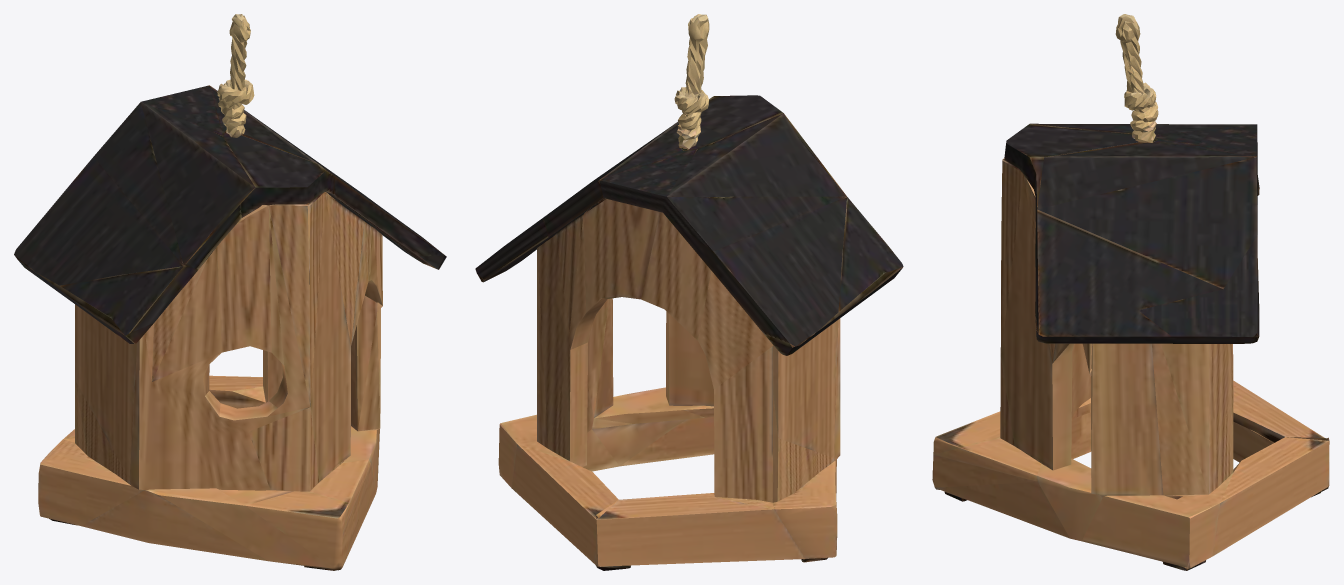
The picture shows the model from 3 angles, left to right: view 1: azimuth 30°, elevation 25°; view 2: azimuth 150°, elevation 25°; view 3: azimuth 270°, elevation 25°; orthographic projection. The views are drawn at different scales.
Size of the model in its own units: 0.7317 by 1 by 0.7538.
Materials: 1 (1 with a texture image).
